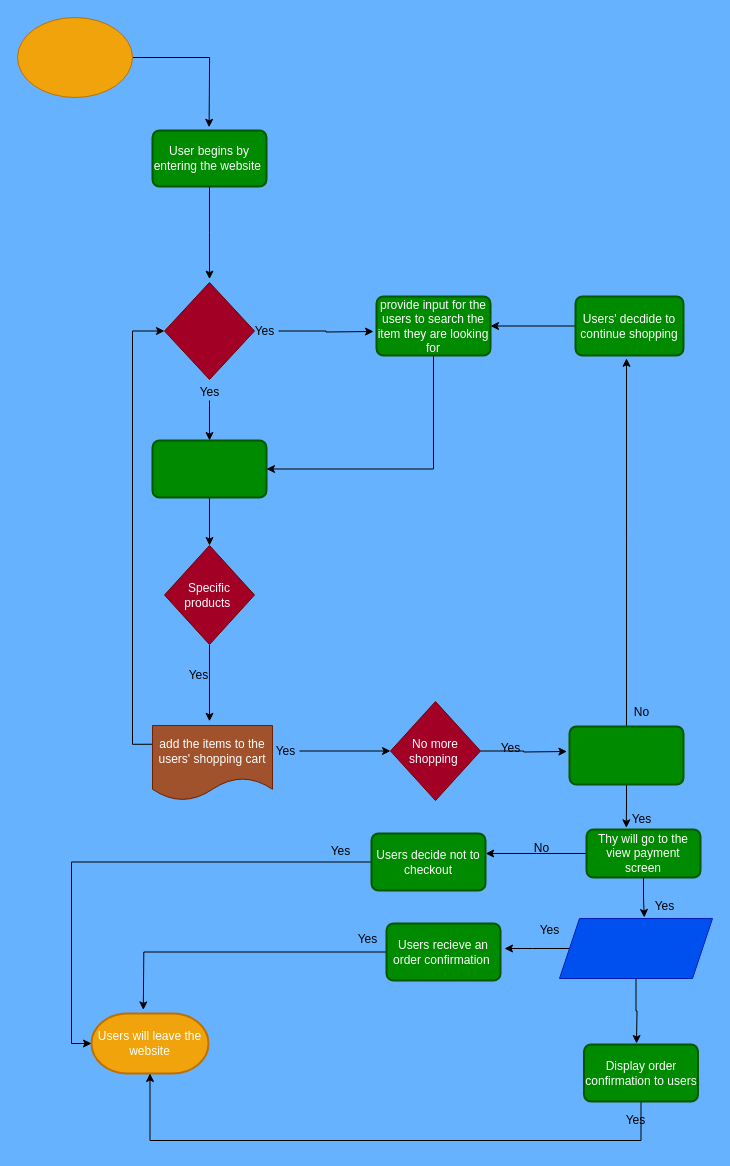
Image size: 730x1166. Some labels were removed from this diagram. The shapes that lost their labels are listed below. From the top down, each one's centre as x and y in pixels, then its label:
At point (74, 57): "users are entering the website".
At point (209, 331): "users' options".
At point (209, 468): "users explore the products on the home page".
At point (626, 755): "The user can view the shopping cart".
At point (635, 948): "users put their payment information".
